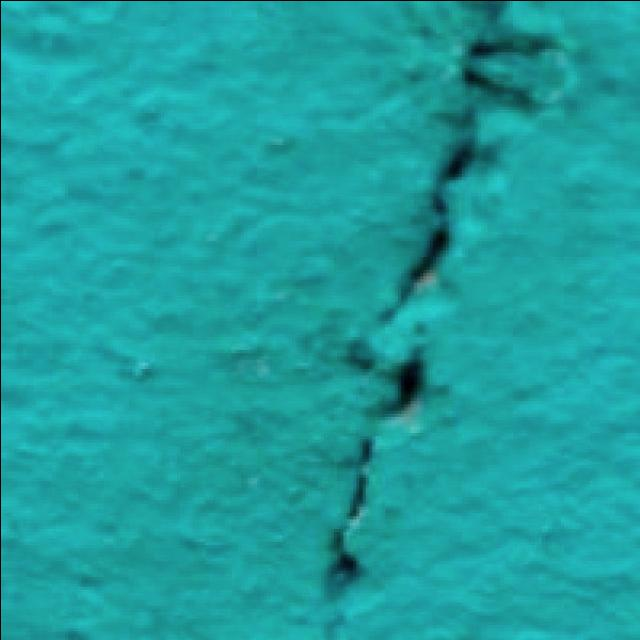SurfaceCrack: (326, 0, 548, 640)
